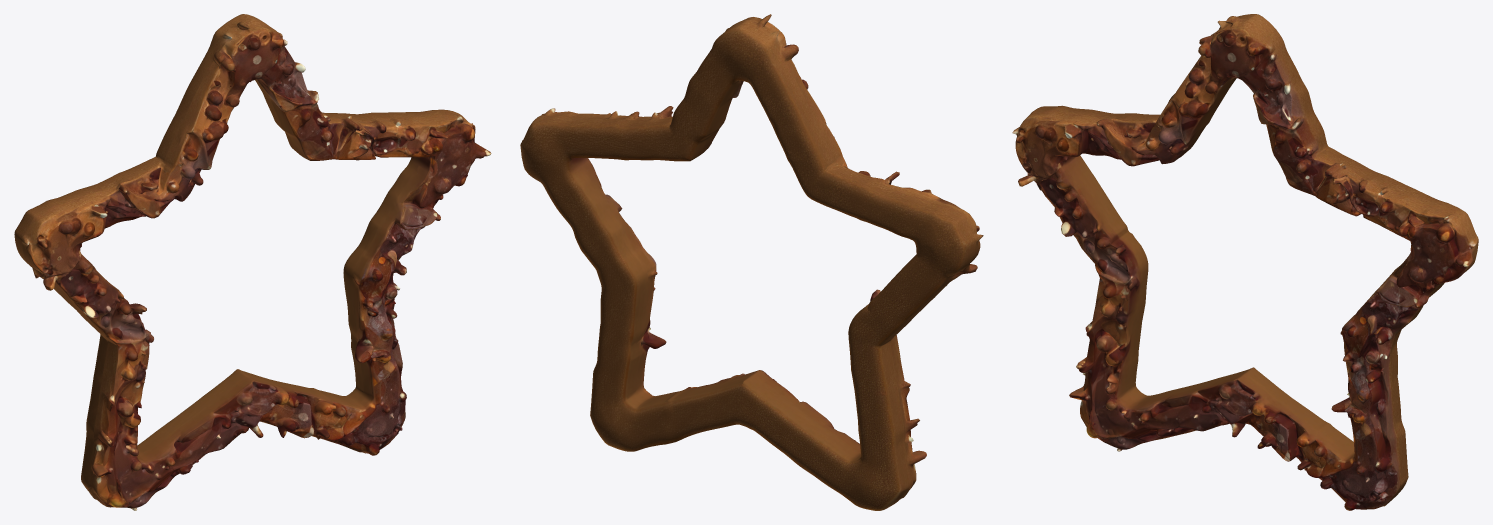
Rendered from Enemigo15.glb.
3 views of the same model, side by side, from view 1: azimuth 30°, elevation 25°; view 2: azimuth 150°, elevation 25°; view 3: azimuth 330°, elevation 25° (orthographic).
Parts seen in each view (by area): view 1: tripo_node_0aa53ceb-6c15-4567-9c49-d891b0d345e5; view 2: tripo_node_0aa53ceb-6c15-4567-9c49-d891b0d345e5; view 3: tripo_node_0aa53ceb-6c15-4567-9c49-d891b0d345e5.
Boxes of the visible parts, x1=… form: tripo_node_0aa53ceb-6c15-4567-9c49-d891b0d345e5: x1=14, y1=14, x2=491, y2=510; tripo_node_0aa53ceb-6c15-4567-9c49-d891b0d345e5: x1=520, y1=14, x2=983, y2=510; tripo_node_0aa53ceb-6c15-4567-9c49-d891b0d345e5: x1=1012, y1=14, x2=1478, y2=510.
Bounding box in the file's own units: 0.9837 × 0.9384 × 0.1111.
Materials: 1 (1 with a texture image).
